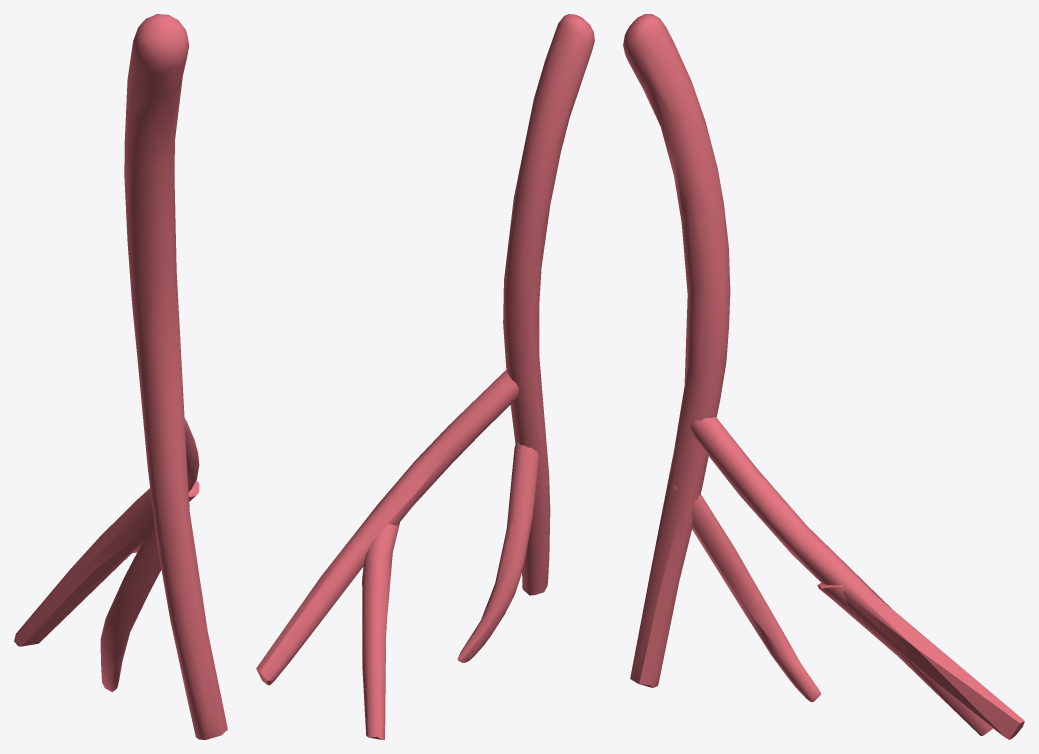
File: fma9451_cx294.glb
The picture shows the model from 3 angles, left to right: view 1: azimuth 30°, elevation 25°; view 2: azimuth 150°, elevation 25°; view 3: azimuth 270°, elevation 25°; orthographic projection. The views are drawn at different scales.
Parts seen in each view (by area): view 1: FMA9451_CX294; view 2: FMA9451_CX294; view 3: FMA9451_CX294.
Boxes of the visible parts, bbox=[...] form: FMA9451_CX294: bbox=[14, 14, 227, 739]; FMA9451_CX294: bbox=[256, 14, 594, 739]; FMA9451_CX294: bbox=[623, 14, 1024, 739].
Bounding box in the file's own units: 0.0182 × 0.0644 × 0.0339.
